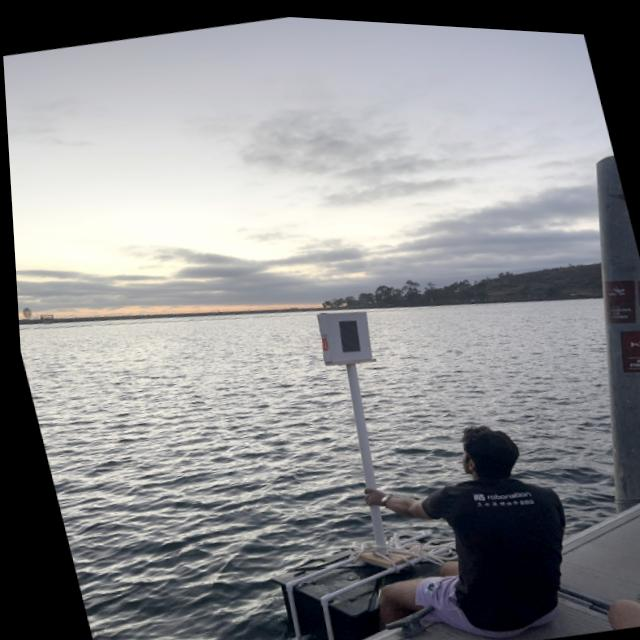led: (323, 307, 365, 358)
